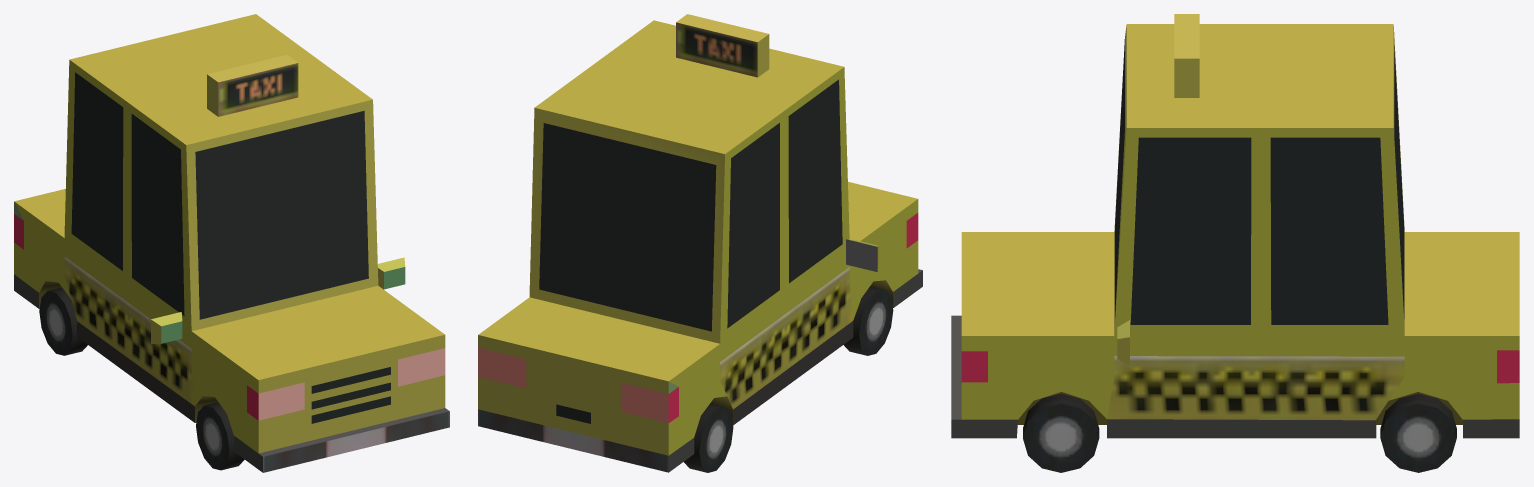
The model's file is Airport_Taxi02.fbx.
3 views of the same model, side by side, from view 1: azimuth 30°, elevation 25°; view 2: azimuth 150°, elevation 25°; view 3: azimuth 270°, elevation 25° (orthographic). The views are drawn at different scales.
Parts seen in each view (by area): view 1: Airport_Taxi02; view 2: Airport_Taxi02; view 3: Airport_Taxi02.
Boxes of the visible parts, x1,y1,x2,y2 form: Airport_Taxi02: (14,14,449,472); Airport_Taxi02: (478,14,922,472); Airport_Taxi02: (951,14,1519,472).
Size of the model in its own units: 3.33 by 4.22 by 5.66.
